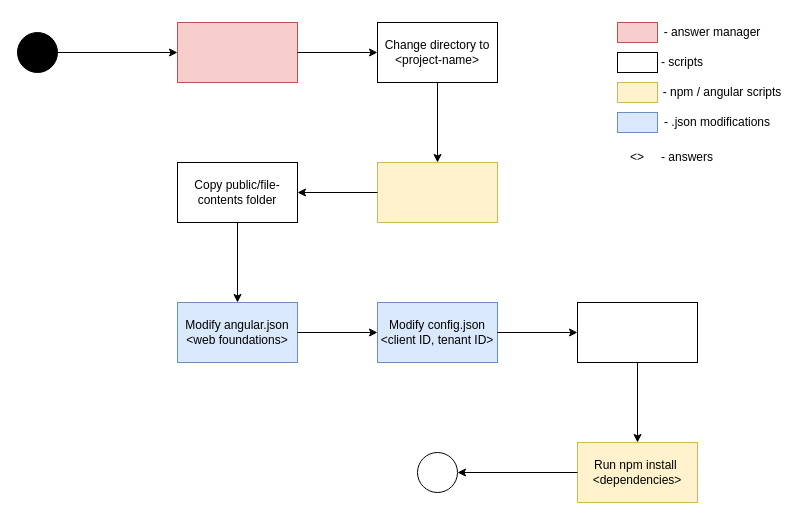
The diagram is 805 pixels wide and 520 high, and some of its shapes have lost their labels. The shapes that lost their labels are listed below. From the top down, each one's centre as x and y in pixels, then its label:
At [237,52]: "Read answers from C:/temp".
At [437,192]: "Run ng new <project-name>".
At [637,332]: "Create layout <layout>".
